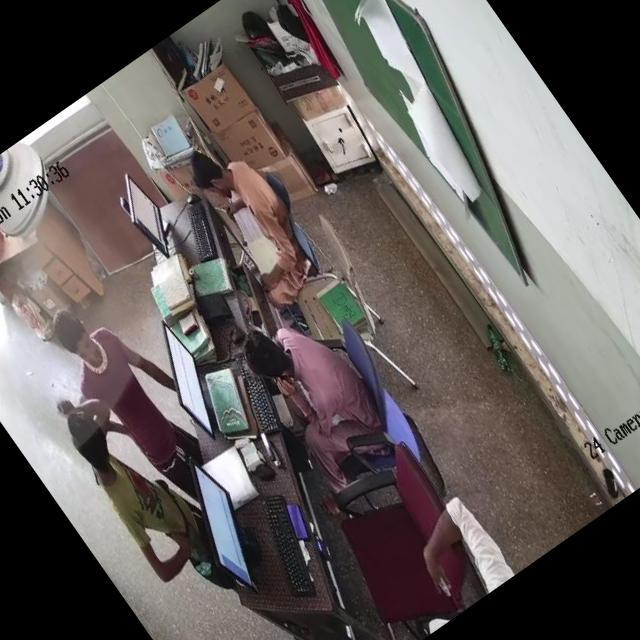person: (46, 300, 205, 490), (67, 404, 222, 588), (183, 128, 330, 300), (244, 302, 392, 472)
